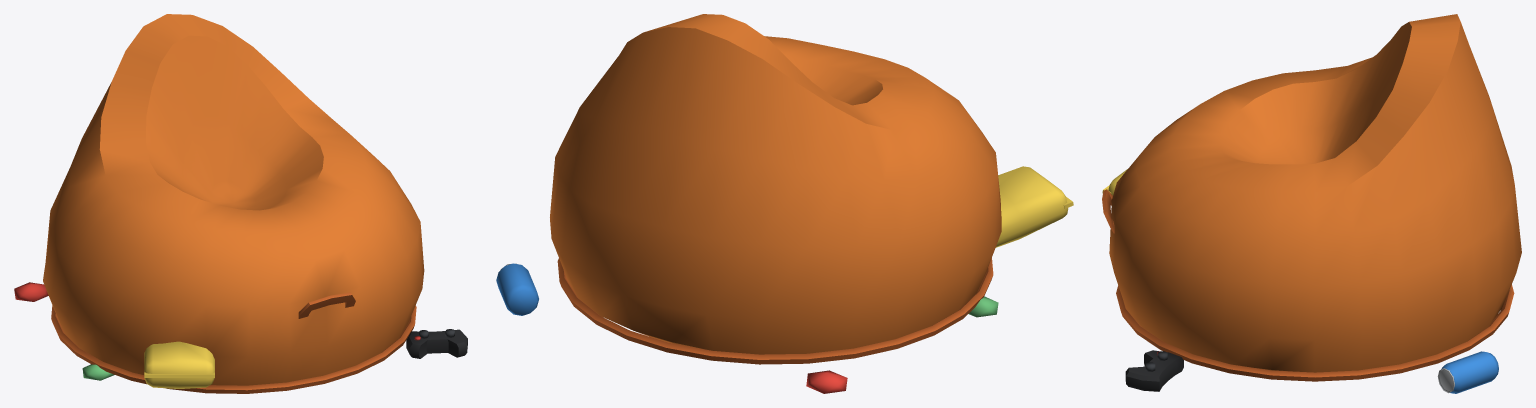
File: beanbag.glb
3 views of the same model, side by side, from view 1: azimuth 30°, elevation 25°; view 2: azimuth 150°, elevation 25°; view 3: azimuth 270°, elevation 25° (orthographic). The views are drawn at different scales.
Parts seen in each view (by area): view 1: bag, body; view 2: bag, body; view 3: bag, body.
Part boxes in pixels (bbox=[...]): bag: bbox=[43, 14, 424, 393]; body: bbox=[14, 282, 467, 388]; bag: bbox=[550, 14, 1001, 364]; body: bbox=[496, 166, 1073, 393]; bag: bbox=[1102, 14, 1521, 381]; body: bbox=[1102, 169, 1498, 393].
Size of the model in its own units: 0.8843 by 0.6618 by 0.8742.
